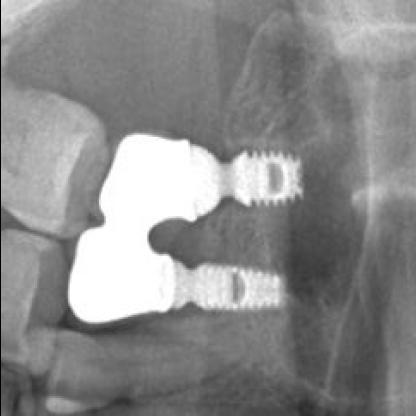Bicon: (184, 248, 290, 332), (224, 134, 316, 224)
